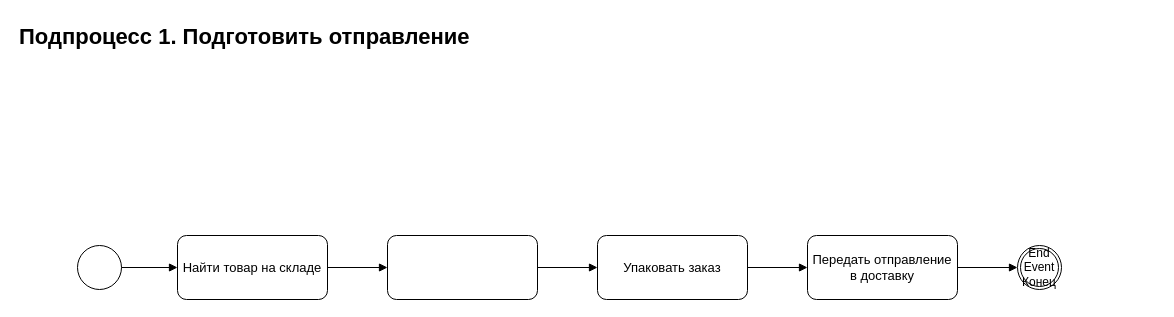
Image size: 1174x317. Some labels were removed from this diagram. Here are the shapes that lost their labels. From the top down, the box of each, then its label:
(76, 244, 122, 290): Start Event Начало
(386, 234, 538, 300): Проверить позицию заказа
